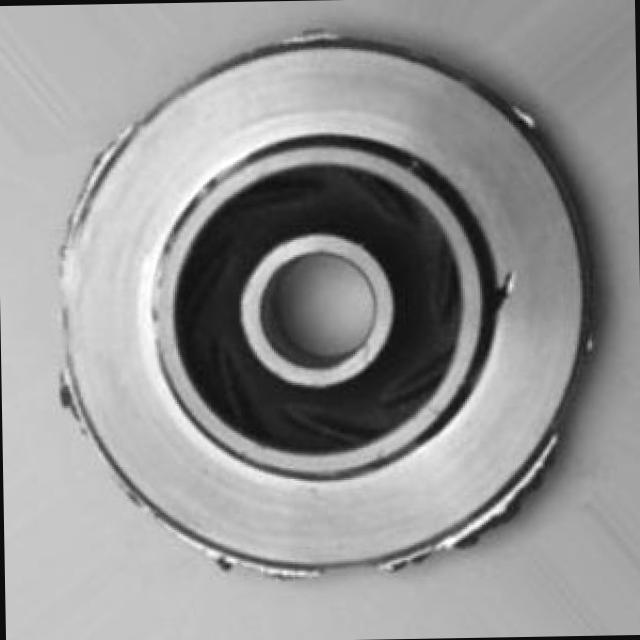Defect: (487, 264, 528, 308)
